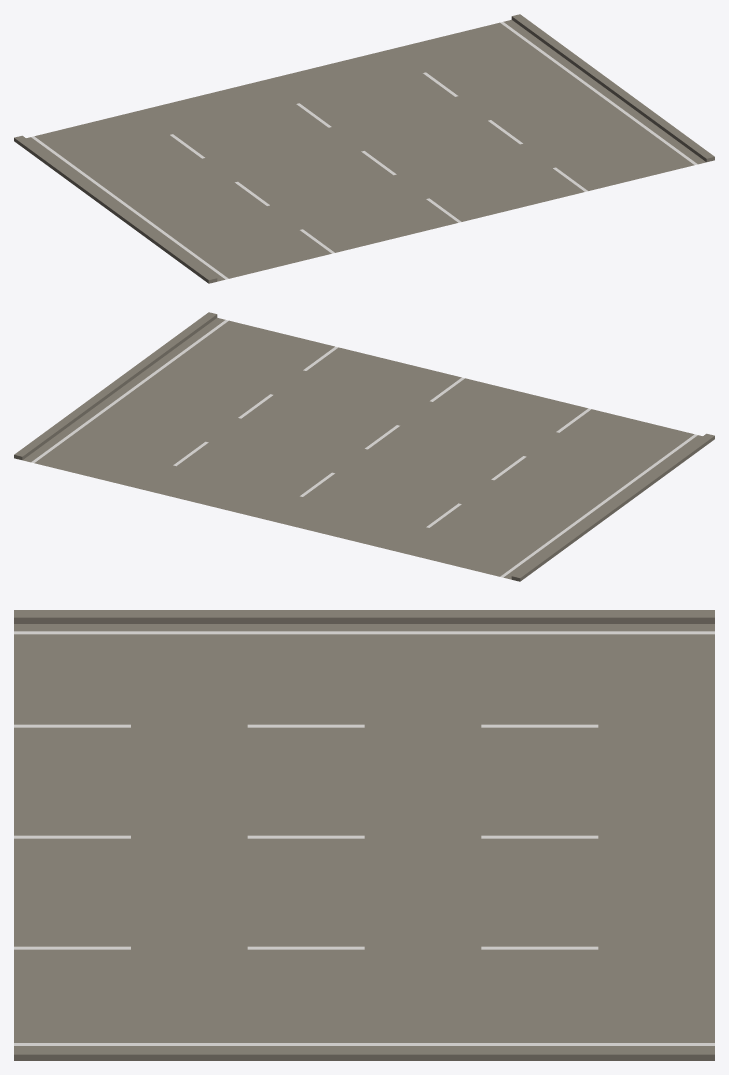
The model's file is Highway_Basic.fbx.
The picture shows the model from 3 angles, top to bottom: view 1: azimuth 30°, elevation 25°; view 2: azimuth 150°, elevation 25°; view 3: azimuth 270°, elevation 25°; orthographic projection. The views are drawn at different scales.
Visible parts, largest first — view 1: Plane.001; view 2: Plane.001; view 3: Plane.001.
Boxes of the visible parts, box(x1,y1,x2,y2) form: Plane.001: box(14, 14, 714, 283); Plane.001: box(14, 312, 714, 581); Plane.001: box(14, 610, 714, 1060).
Size of the model in its own units: 30 by 0.2 by 20.
